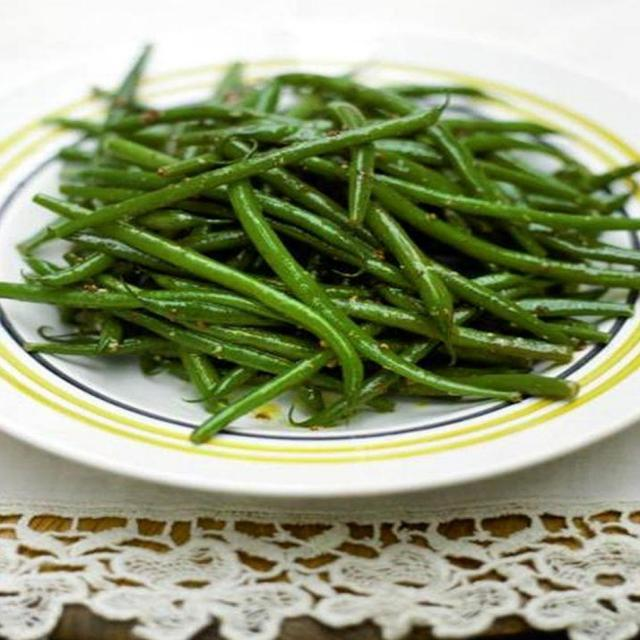Beans: (0, 74, 639, 426)
